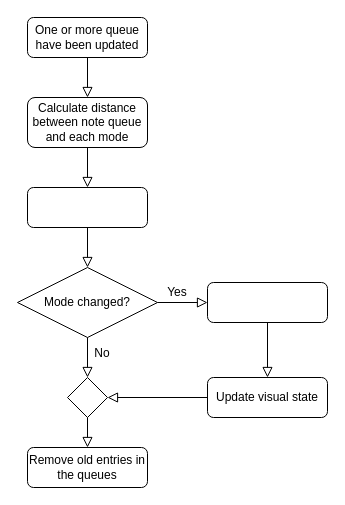
Image size: 345x505. Some labels were removed from this diagram. The shapes that lost their labels are listed below. From the top down, each one's box as (x1, y1, x2, y2) in pixels, then its label:
(26, 186, 148, 228): Select mode with shortest distance
(206, 282, 328, 322): Update notes probability
